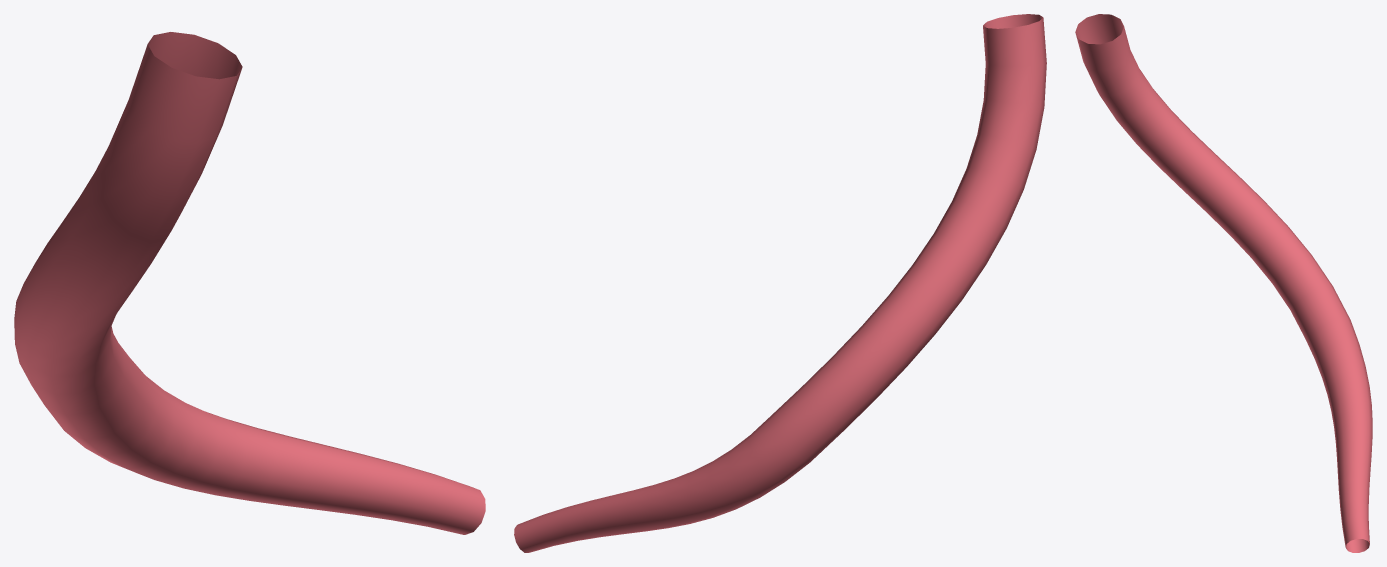
3 views of the same model, side by side, from view 1: azimuth 30°, elevation 25°; view 2: azimuth 150°, elevation 25°; view 3: azimuth 270°, elevation 25° (orthographic). The views are drawn at different scales.
Visible parts, largest first — view 1: ZA_bc0226abcf3983a2; view 2: ZA_bc0226abcf3983a2; view 3: ZA_bc0226abcf3983a2.
Part boxes in pixels (x1=…): ZA_bc0226abcf3983a2: x1=14, y1=32, x2=485, y2=534; ZA_bc0226abcf3983a2: x1=514, y1=14, x2=1046, y2=552; ZA_bc0226abcf3983a2: x1=1075, y1=14, x2=1372, y2=552.
Bounding box in the file's own units: 0.00858 × 0.0108 × 0.00724.
